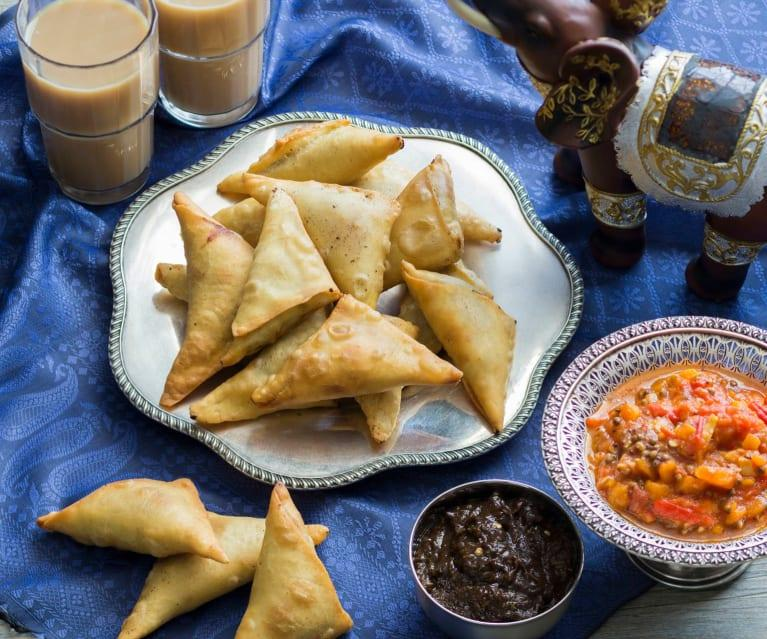samosa: (252, 295, 463, 408), (246, 174, 400, 307), (160, 192, 253, 407), (403, 262, 515, 431), (235, 482, 354, 637), (118, 513, 265, 638), (37, 478, 228, 563), (232, 187, 340, 336), (384, 154, 464, 288), (458, 339, 461, 353)
